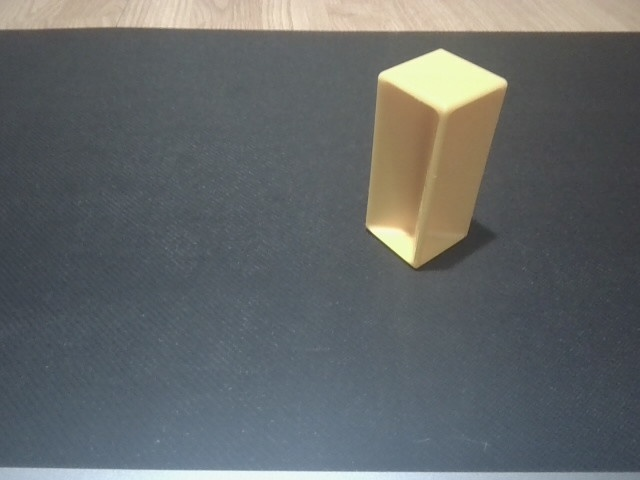YellowSample: (359, 45, 511, 273)
